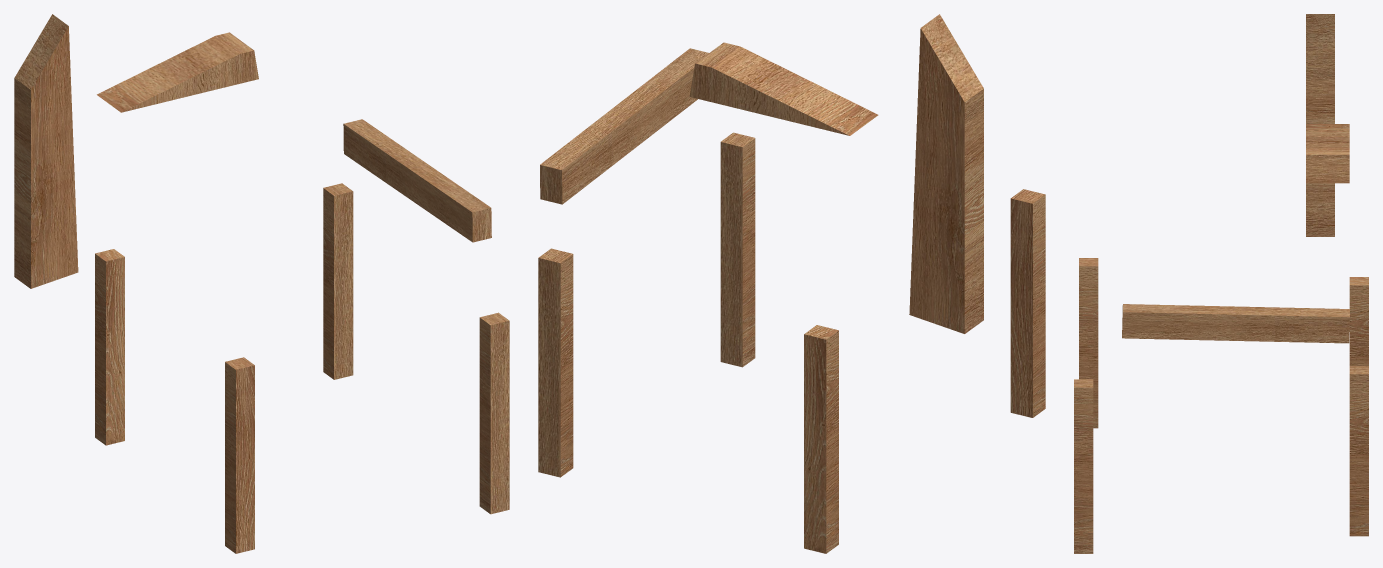
File: 44650_deepcad.glb
3 views of the same model, side by side, from view 1: azimuth 30°, elevation 25°; view 2: azimuth 150°, elevation 25°; view 3: azimuth 270°, elevation 25° (orthographic). The views are drawn at different scales.
Visible parts, largest first — view 1: test_cmd_44650_pred; view 2: test_cmd_44650_pred; view 3: test_cmd_44650_pred.
Boxes of the visible parts, left/top/right/bottom form: test_cmd_44650_pred: left=14, top=14, right=509, bottom=553; test_cmd_44650_pred: left=538, top=14, right=1045, bottom=553; test_cmd_44650_pred: left=1074, top=14, right=1368, bottom=553.
Bounding box in the file's own units: 0.8065 × 1 × 0.6559.
1 material, 1 textured.
